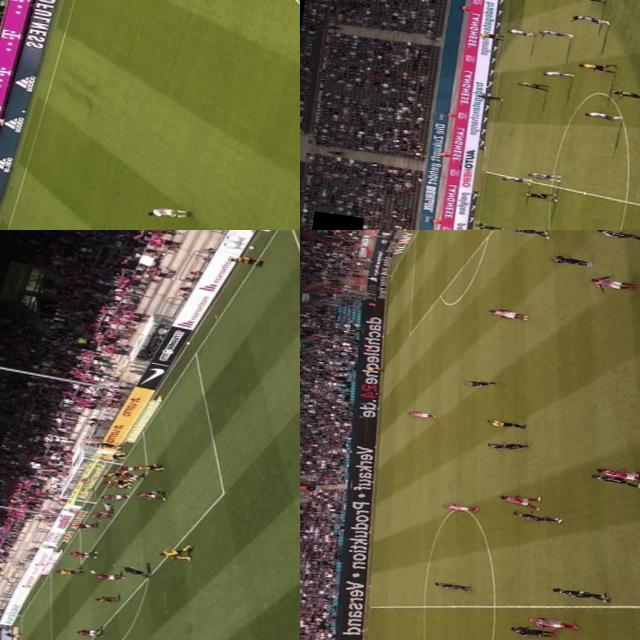ball: (86, 568, 97, 575)
player: (586, 271, 640, 298), (549, 584, 612, 606), (496, 490, 544, 512), (588, 470, 640, 490), (222, 249, 266, 271), (594, 465, 640, 486), (510, 510, 566, 527), (144, 204, 193, 223), (507, 623, 561, 640), (526, 616, 580, 632), (486, 306, 530, 324), (486, 437, 530, 455), (591, 230, 640, 246), (548, 253, 594, 269), (431, 579, 472, 594), (152, 547, 190, 562), (464, 377, 501, 392), (582, 110, 621, 124), (440, 501, 479, 515), (524, 170, 562, 184), (566, 14, 610, 26), (136, 489, 168, 505), (132, 460, 166, 475), (506, 230, 551, 241), (610, 87, 640, 102), (514, 80, 549, 92), (88, 509, 115, 524), (498, 173, 530, 185), (95, 453, 126, 465), (94, 572, 125, 584), (407, 409, 438, 421), (67, 548, 96, 560), (540, 68, 572, 78), (114, 472, 146, 482), (539, 28, 570, 38), (477, 92, 504, 103), (100, 480, 129, 490), (92, 594, 121, 604), (100, 500, 116, 518), (110, 464, 138, 474), (102, 478, 129, 488), (98, 492, 125, 502), (74, 628, 101, 638), (506, 28, 532, 38), (70, 521, 96, 531), (473, 223, 504, 230), (54, 568, 80, 576), (100, 471, 128, 478), (565, 0, 600, 4)
